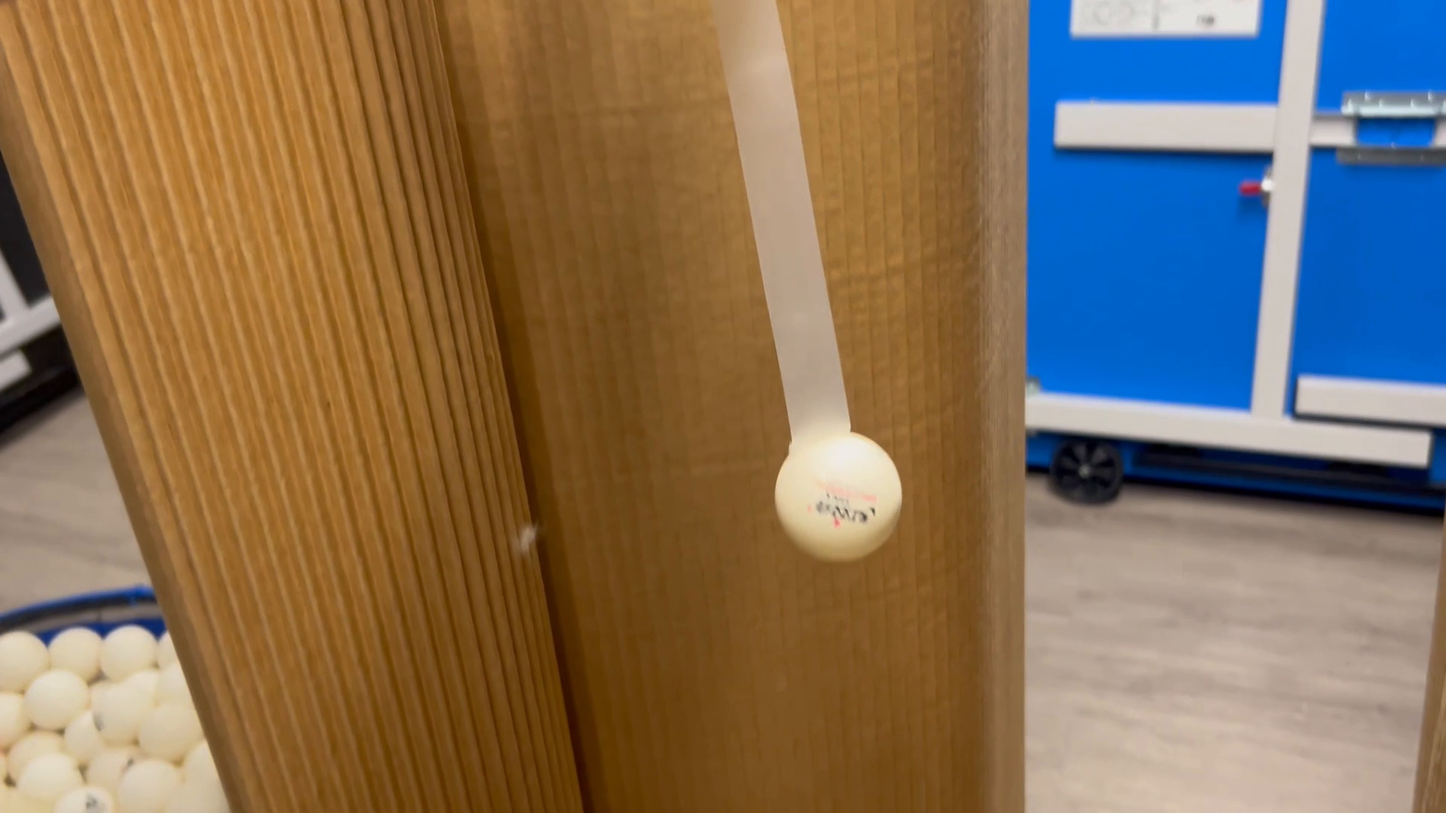Ball: (765, 433, 909, 559)
